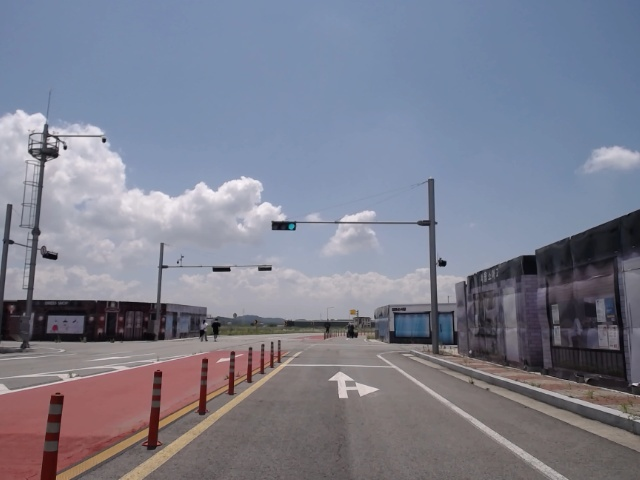green_3: (272, 222, 297, 230)
